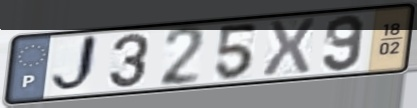2: (157, 22, 208, 92)
3: (105, 31, 151, 89)
5: (211, 20, 261, 83)
9: (322, 13, 367, 74)
J: (48, 32, 101, 98)
X: (260, 16, 318, 80)
